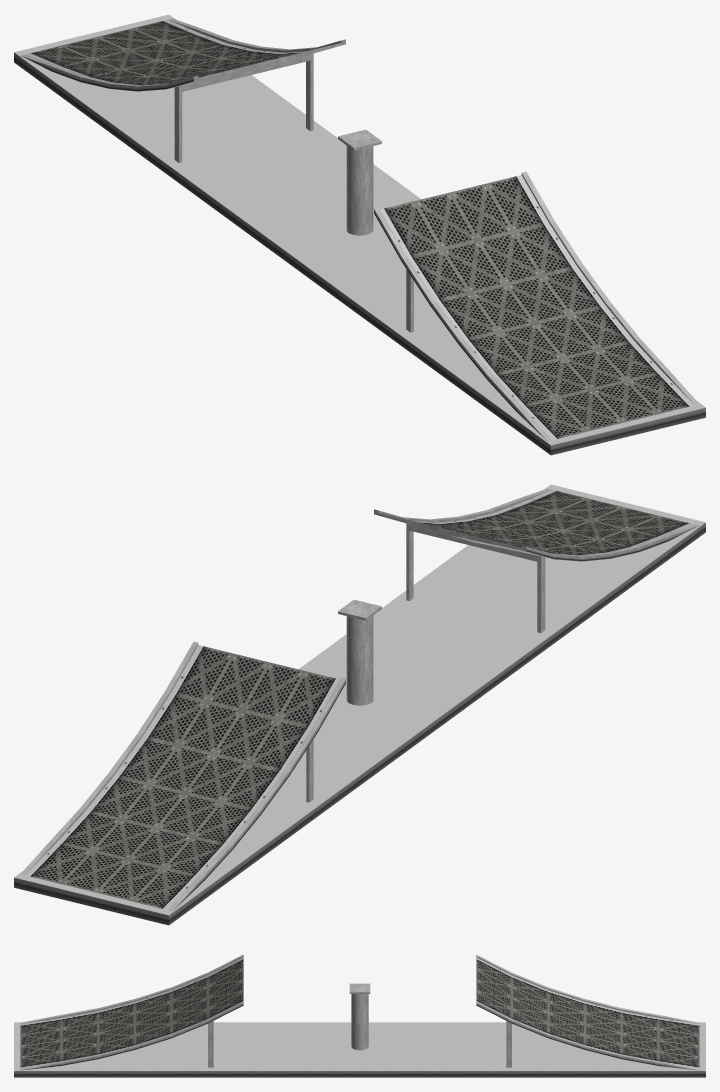
File: Hoop.fbx
3 views of the same model, one above another, from view 1: azimuth 30°, elevation 25°; view 2: azimuth 150°, elevation 25°; view 3: azimuth 270°, elevation 25° (orthographic). The views are drawn at different scales.
Visible parts, largest first — view 1: Empty_Mesh; view 2: Empty_Mesh; view 3: Empty_Mesh.
Boxes of the visible parts, x1,y1,x2,y2 form: Empty_Mesh: (14, 14, 705, 455); Empty_Mesh: (14, 484, 705, 925); Empty_Mesh: (14, 954, 705, 1077).
Bounding box in the file's own units: 1600 × 1145 × 9600.
